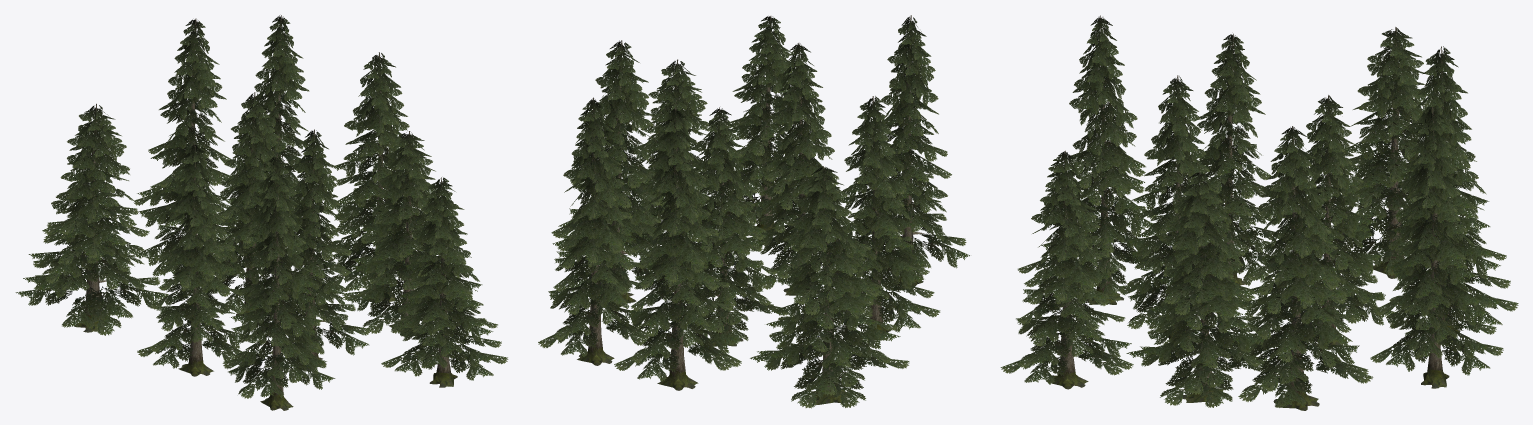
The model's file is tree_pine04_tencluster.glb.
3 views of the same model, side by side, from view 1: azimuth 30°, elevation 25°; view 2: azimuth 150°, elevation 25°; view 3: azimuth 270°, elevation 25° (orthographic). The views are drawn at different scales.
Visible parts, largest first — view 1: 0_Arbre01; view 2: 0_Arbre01; view 3: 0_Arbre01.
Part boxes in pixels (x1,y1,x2,y2): 0_Arbre01: (15, 15, 508, 410); 0_Arbre01: (538, 15, 969, 408); 0_Arbre01: (1000, 15, 1518, 410).
Bounding box in the file's own units: 24.8 × 16.86 × 27.12.
1 material, 1 textured.
